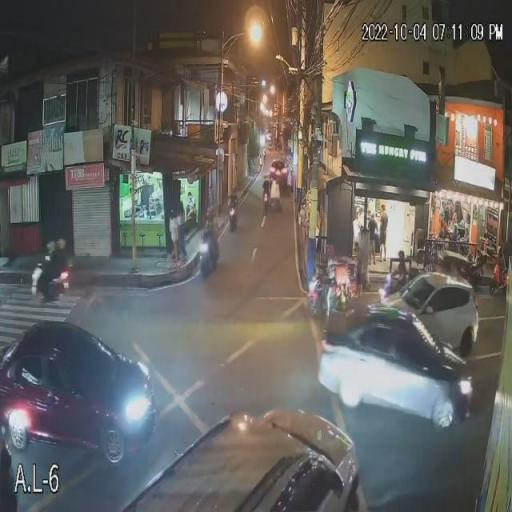helmet: (324, 236, 340, 260), (36, 238, 58, 254), (202, 203, 220, 222), (54, 236, 68, 252)
motorcycle: (301, 270, 355, 320), (30, 261, 80, 302), (193, 231, 228, 276)
rider: (320, 257, 337, 323), (38, 256, 62, 298), (52, 247, 70, 288), (201, 217, 221, 247)
